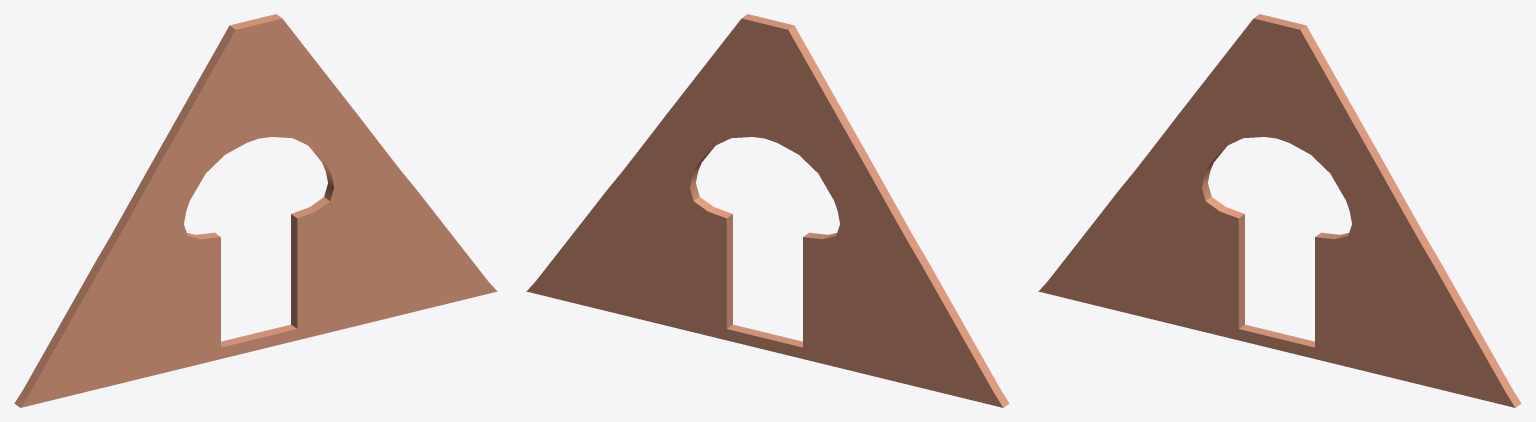
The model's file is SP_House02_Roof02.fbx.
3 views of the same model, side by side, from view 1: azimuth 30°, elevation 25°; view 2: azimuth 150°, elevation 25°; view 3: azimuth 330°, elevation 25° (orthographic).
Parts seen in each view (by area): view 1: SP_House02_Roof02; view 2: SP_House02_Roof02; view 3: SP_House02_Roof02.
Part boxes in pixels (x1,y1,x2,y2): SP_House02_Roof02: [14, 14, 497, 407]; SP_House02_Roof02: [526, 14, 1009, 407]; SP_House02_Roof02: [1038, 14, 1521, 407].
Size of the model in its own units: 9.09 by 5.93 by 0.2016.
